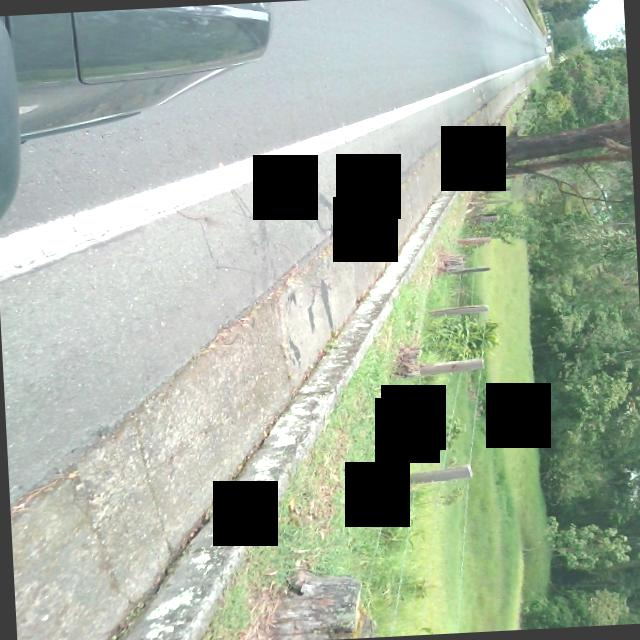DITCH: (0, 0, 610, 640), (0, 0, 541, 640), (0, 54, 581, 640)
